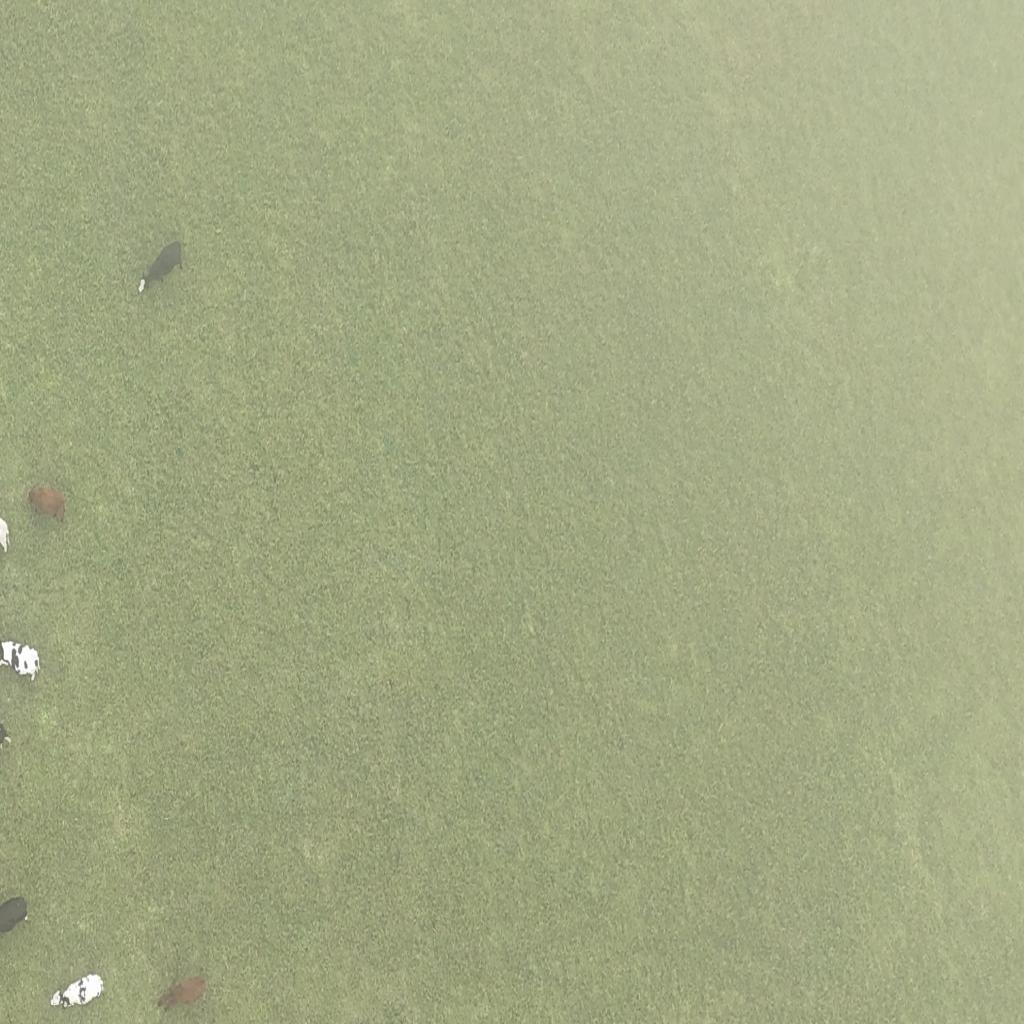cow: (138, 237, 186, 298), (50, 972, 106, 1014), (156, 976, 210, 1018), (0, 635, 43, 686), (24, 483, 68, 526), (0, 895, 29, 938)
